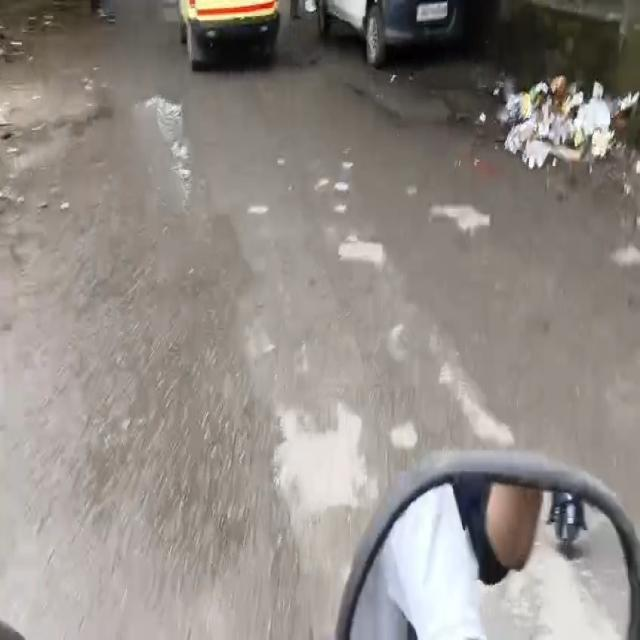road-pothole: (68, 331, 304, 605)
